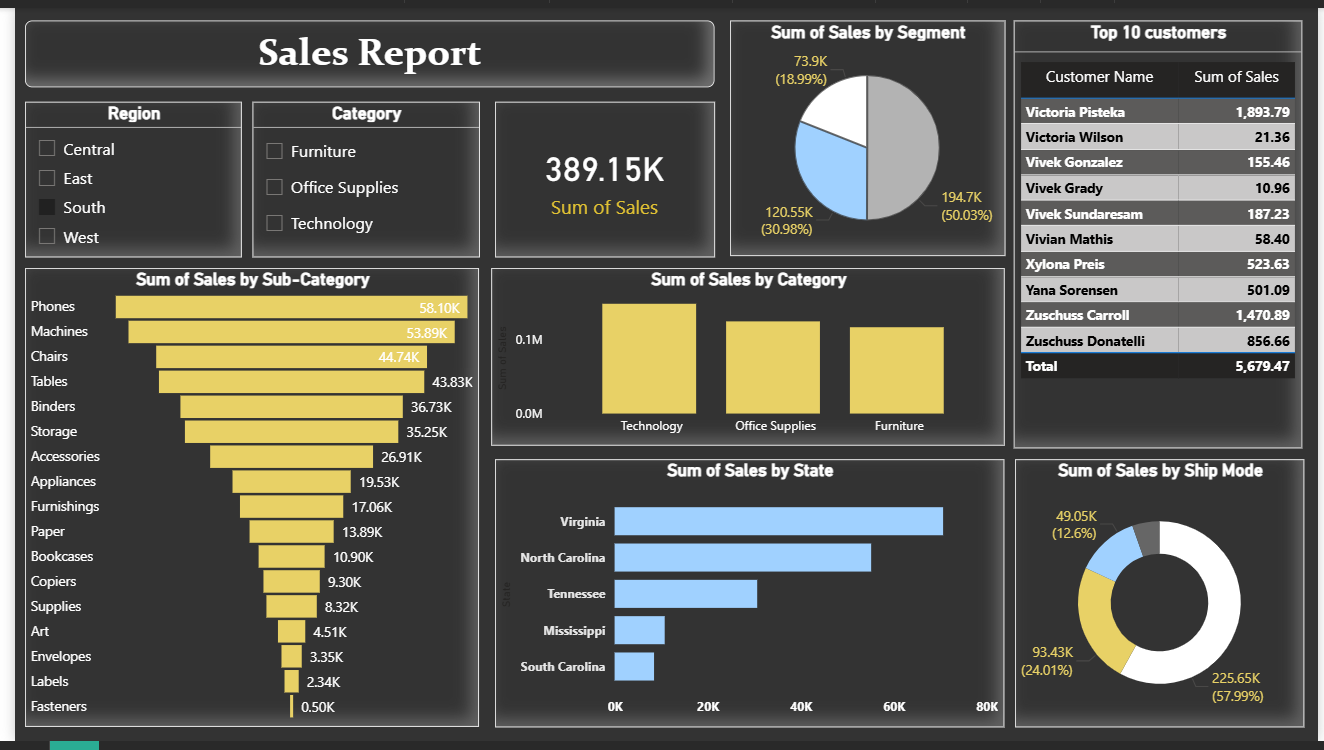

This screenshot's page, from the dashboard's own definition file:
{"tool":"powerbi","page":{"name":"Page 1","canvas":[1280,720],"ordinal":0},"visuals":[{"type":"textbox","box":[10,12.9,677.1,65.7],"z":0},{"type":"funnel","fields":{"Category":["train.Sub-Category"],"Y":["Sum(train.Sales)"]},"box":[10,255.7,445.7,450],"z":1000},{"type":"barChart","fields":{"Category":["train.State"],"Y":["Sum(train.Sales)"]},"box":[471.4,442.9,500,262.9],"z":2000},{"type":"slicer","title":"Region","fields":{"Values":["train.Region"]},"box":[10,91.4,212.9,152.9],"z":3000},{"type":"slicer","title":"Category","fields":{"Values":["train.Category"]},"box":[232.9,91.4,222.9,152.9],"z":4000},{"type":"card","fields":{"Values":["Sum(train.Sales)"]},"box":[471.4,91.4,215.7,152.9],"z":5000},{"type":"pieChart","fields":{"Category":["train.Segment"],"Y":["Sum(train.Sales)"]},"box":[701.4,12.9,270,231.4],"z":6000},{"type":"clusteredColumnChart","fields":{"Category":["train.Category"],"Y":["Sum(train.Sales)"]},"box":[467.1,255.7,504.3,174.3],"z":7000},{"type":"donutChart","fields":{"Category":["train.Ship Mode"],"Y":["Sum(train.Sales)"]},"box":[981.4,442.9,284.3,262.9],"z":8000},{"type":"tableEx","title":"Top 10 customers","fields":{"Values":["train.Customer Name","Sum(train.Sales)"]},"box":[980,12,282.9,420],"z":9000}]}

Visuals, with their boxes in screenshot pixels (x1, y1, x2, y2), scaled from the page's 1280x720 canvas onto the 1324x750 screenshot:
textbox: box(10, 13, 711, 82)
funnel - train.Sub-Category x Sum(train.Sales): box(10, 266, 471, 735)
barChart - train.State x Sum(train.Sales): box(488, 461, 1005, 735)
"Region" slicer: box(10, 95, 231, 254)
"Category" slicer: box(241, 95, 471, 254)
card - Sum(train.Sales): box(488, 95, 711, 254)
pieChart - train.Segment x Sum(train.Sales): box(726, 13, 1005, 254)
clusteredColumnChart - train.Category x Sum(train.Sales): box(483, 266, 1005, 448)
donutChart - train.Ship Mode x Sum(train.Sales): box(1015, 461, 1309, 735)
"Top 10 customers" tableEx: box(1014, 12, 1306, 450)
